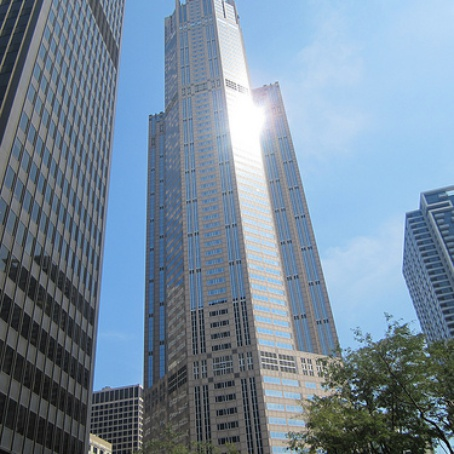building: (143, 1, 338, 454), (1, 1, 119, 451), (399, 186, 454, 347), (81, 380, 145, 454)
sky: (277, 1, 454, 200)
tree: (276, 330, 454, 454)
